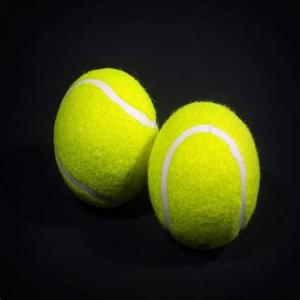Tennis: (48, 57, 163, 212), (148, 102, 264, 252)
